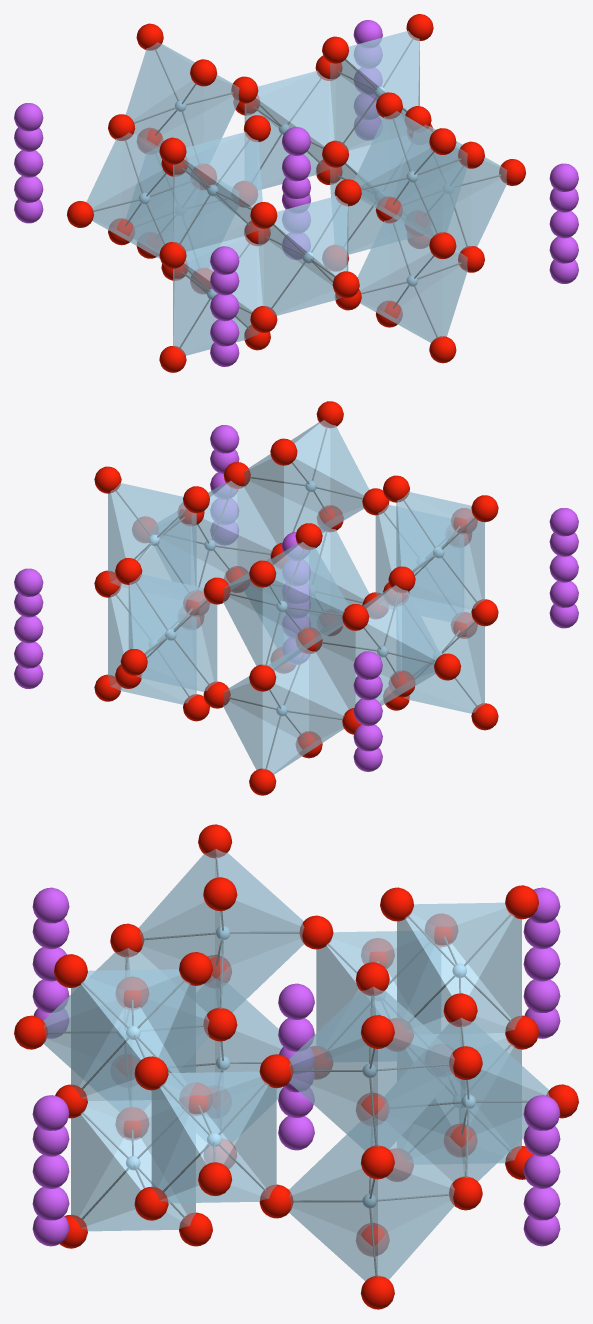
3 views of the same model, one above another, from view 1: azimuth 30°, elevation 25°; view 2: azimuth 150°, elevation 25°; view 3: azimuth 270°, elevation 25° (orthographic). The views are drawn at different scales.
Visible parts, largest first — view 1: Shape_IndexedFaceSet, atom5_IndexedFaceSet, atom0_IndexedFaceSet, Shape_Cylinder, atom3_IndexedFaceSet; view 2: Shape_IndexedFaceSet, atom5_IndexedFaceSet, atom0_IndexedFaceSet, Shape_Cylinder, atom3_IndexedFaceSet; view 3: Shape_IndexedFaceSet, atom5_IndexedFaceSet, atom0_IndexedFaceSet, Shape_Cylinder, atom3_IndexedFaceSet.
Part boxes in pixels (left/top/right/bottom): Shape_IndexedFaceSet: left=86, top=31, right=507, bottom=355; atom5_IndexedFaceSet: left=67, top=14, right=525, bottom=372; atom0_IndexedFaceSet: left=14, top=20, right=578, bottom=366; Shape_Cylinder: left=93, top=39, right=501, bottom=347; atom3_IndexedFaceSet: left=138, top=86, right=417, bottom=299; Shape_IndexedFaceSet: left=108, top=420, right=484, bottom=774; atom5_IndexedFaceSet: left=94, top=401, right=498, bottom=795; atom0_IndexedFaceSet: left=14, top=425, right=578, bottom=771; Shape_Cylinder: left=116, top=427, right=476, bottom=768; atom3_IndexedFaceSet: left=148, top=480, right=444, bottom=716; Shape_IndexedFaceSet: left=43, top=849, right=549, bottom=1281; atom5_IndexedFaceSet: left=14, top=824, right=578, bottom=1309; atom0_IndexedFaceSet: left=32, top=887, right=560, bottom=1246; Shape_Cylinder: left=48, top=857, right=528, bottom=1275; atom3_IndexedFaceSet: left=126, top=925, right=475, bottom=1208.
Bounding box in the file's own units: 11.68 × 6.64 × 11.68.
